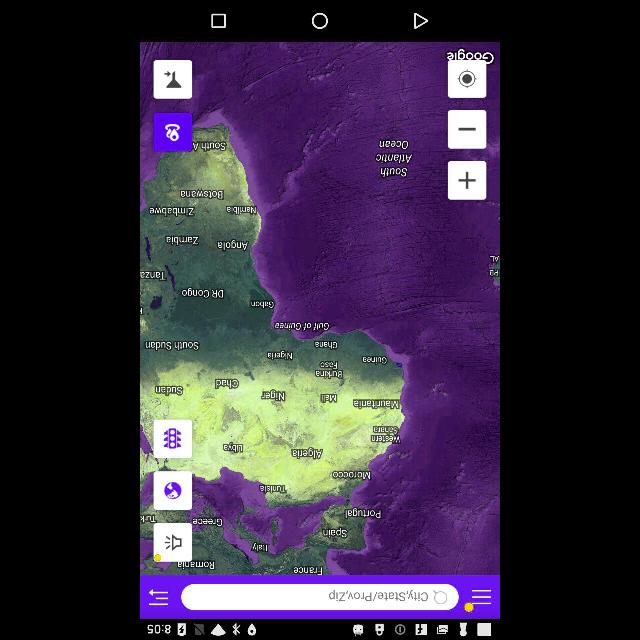icon: (458, 68, 476, 88), (150, 588, 168, 606), (472, 589, 492, 605), (312, 13, 328, 29), (414, 13, 428, 29), (432, 588, 446, 604), (212, 14, 226, 28)
input: (182, 584, 458, 610)
map: (140, 42, 500, 576)
panel: (140, 1, 500, 42)
text: (327, 590, 427, 602)
toolbar: (140, 576, 500, 620)
uppertaskbar: (140, 619, 500, 639)
